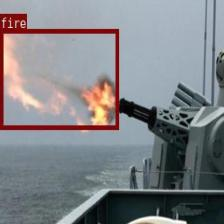fire: (0, 28, 118, 129)
